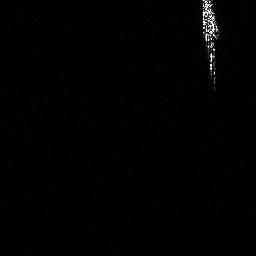ship: (199, 1, 221, 88)
